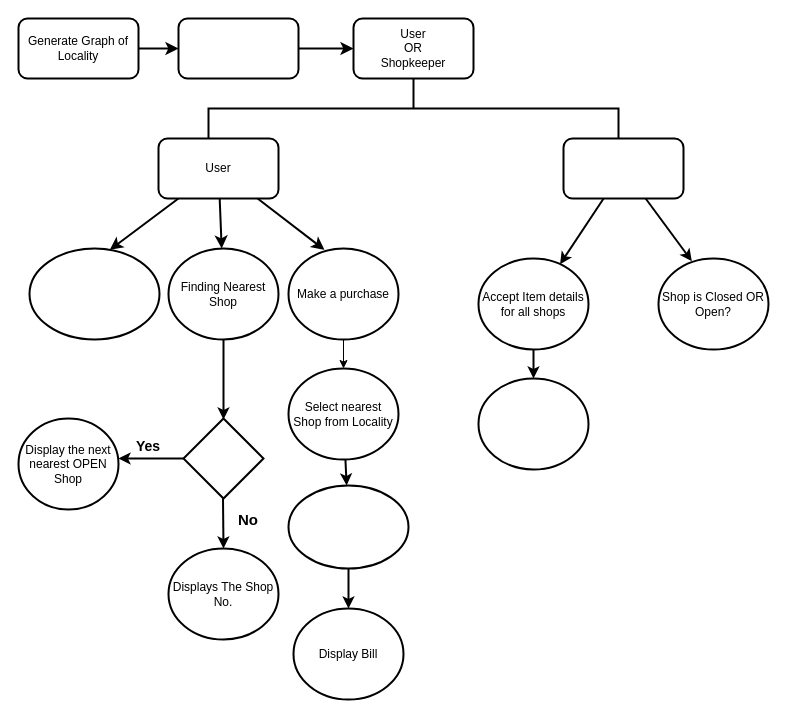
Image size: 786x717. Some labels were removed from this diagram. Here are the shapes that lost their labels. From the top down, the centre of each, then its label:
point (238, 48): Display Graph & Breadth First Search Display
point (623, 168): Shopkeeper
point (94, 293): Shortest Path from Source To Destination using Dijkstra's Algorithm
point (533, 423): Display Items of all shops
point (223, 458): Shop is Closed
point (348, 526): Select Items to buy from Shop with updated quantities
